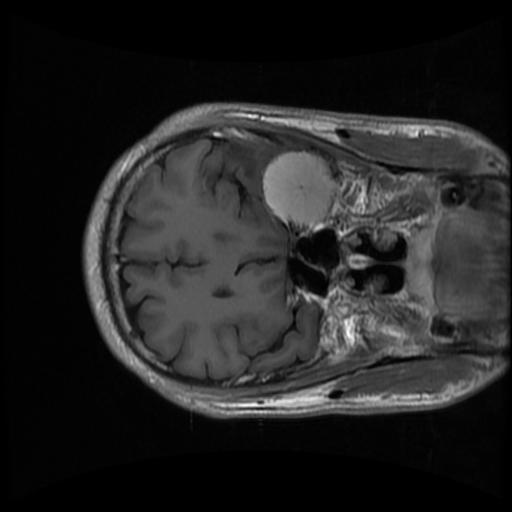meningioma: (262, 151, 336, 224)
